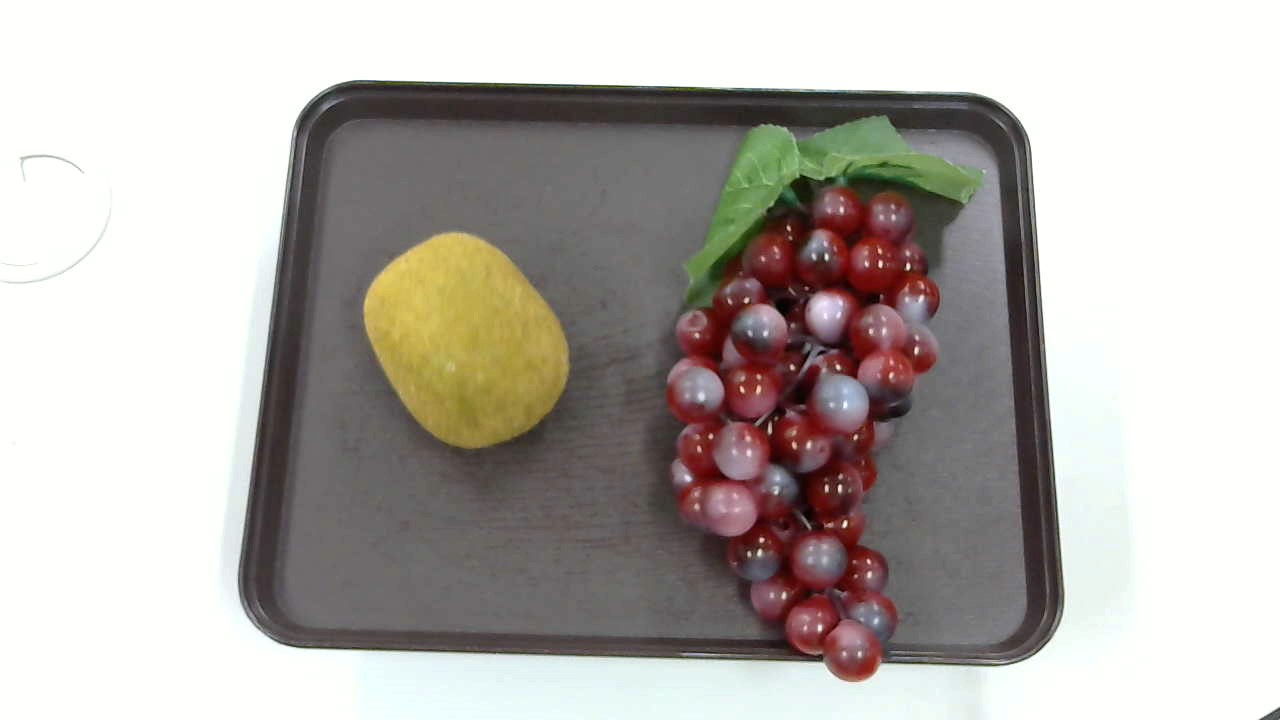grape: (668, 112, 993, 693)
kiwi fruit: (362, 232, 571, 451)
